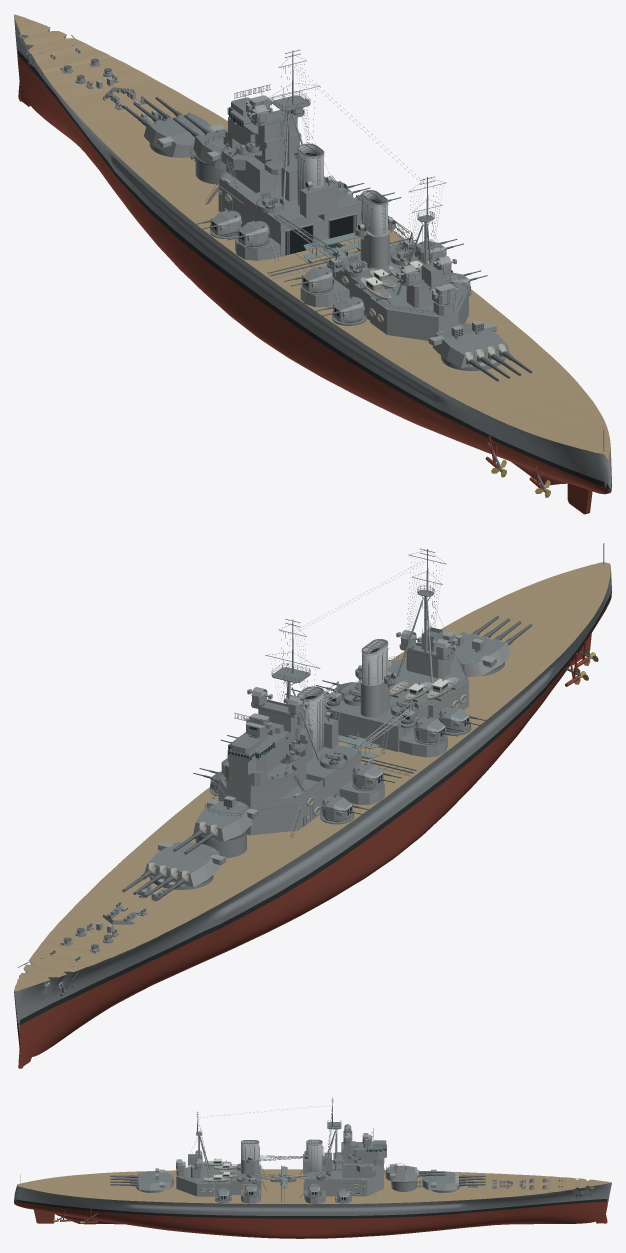
File: king-george-v.glb
The picture shows the model from 3 angles, top to bottom: view 1: azimuth 30°, elevation 25°; view 2: azimuth 150°, elevation 25°; view 3: azimuth 270°, elevation 25°; orthographic projection. The views are drawn at different scales.
Visible parts, largest first — view 1: KGV original section hull, after-shelter.mesh, main-y.yaw.mesh, after-funnel.mesh, main-a.yaw.mesh, foremast.mesh, forward-shelter.mesh, hangar-port.mesh, hangar-doors.mesh, forward-funnel.mesh, searchlight-house.mesh, main-b.yaw.mesh (+12 smaller); view 2: KGV original section hull, after-shelter.mesh, forward-shelter.mesh, main-a.yaw.mesh, after-funnel.mesh, main-b.yaw.mesh, main-y.yaw.mesh, tower-lower-bridge.mesh, mainmast.mesh, foremast.mesh, forward-funnel.mesh, tower-upper-bridge.mesh (+8 smaller); view 3: KGV original section hull, after-shelter.mesh, forward-shelter.mesh, main-y.yaw.mesh, after-funnel.mesh, main-a.yaw.mesh, forward-funnel.mesh, main-b.yaw.mesh, foremast.mesh, hangar-starboard.mesh, tower-upper-bridge.mesh, tower-lower-bridge.mesh (+7 smaller).
Part boxes in pixels (bbox=[...]): KGV original section hull: bbox=[14, 14, 611, 494]; after-shelter.mesh: bbox=[332, 244, 468, 340]; main-y.yaw.mesh: bbox=[428, 323, 509, 368]; after-funnel.mesh: bbox=[360, 190, 389, 268]; main-a.yaw.mesh: bbox=[144, 112, 225, 157]; foremast.mesh: bbox=[265, 50, 338, 208]; forward-shelter.mesh: bbox=[218, 185, 360, 256]; hangar-port.mesh: bbox=[243, 187, 317, 231]; hangar-doors.mesh: bbox=[285, 213, 357, 267]; forward-funnel.mesh: bbox=[297, 143, 324, 206]; searchlight-house.mesh: bbox=[300, 182, 338, 218]; main-b.yaw.mesh: bbox=[193, 130, 226, 169]; KGV original section hull: bbox=[14, 562, 611, 1066]; after-shelter.mesh: bbox=[329, 657, 468, 751]; forward-shelter.mesh: bbox=[218, 760, 360, 835]; main-a.yaw.mesh: bbox=[144, 841, 225, 887]; after-funnel.mesh: bbox=[360, 639, 389, 717]; main-b.yaw.mesh: bbox=[193, 795, 258, 841]; main-y.yaw.mesh: bbox=[454, 631, 510, 676]; tower-lower-bridge.mesh: bbox=[221, 752, 306, 791]; mainmast.mesh: bbox=[396, 549, 459, 683]; foremast.mesh: bbox=[265, 619, 328, 760]; forward-funnel.mesh: bbox=[297, 686, 324, 754]; tower-upper-bridge.mesh: bbox=[228, 728, 299, 774]; KGV original section hull: bbox=[14, 1169, 611, 1238]; after-shelter.mesh: bbox=[176, 1164, 261, 1196]; forward-shelter.mesh: bbox=[304, 1164, 383, 1196]; main-y.yaw.mesh: bbox=[136, 1169, 173, 1191]; after-funnel.mesh: bbox=[241, 1140, 259, 1176]; main-a.yaw.mesh: bbox=[422, 1169, 459, 1191]; forward-funnel.mesh: bbox=[306, 1139, 323, 1171]; main-b.yaw.mesh: bbox=[385, 1163, 417, 1182]; foremast.mesh: bbox=[323, 1098, 341, 1171]; hangar-starboard.mesh: bbox=[304, 1170, 341, 1183]; tower-upper-bridge.mesh: bbox=[342, 1145, 386, 1159]; tower-lower-bridge.mesh: bbox=[342, 1158, 384, 1172].
Size of the model in its own units: 38.27 by 52.6 by 227.
Materials: 15 (7 with a texture image).
